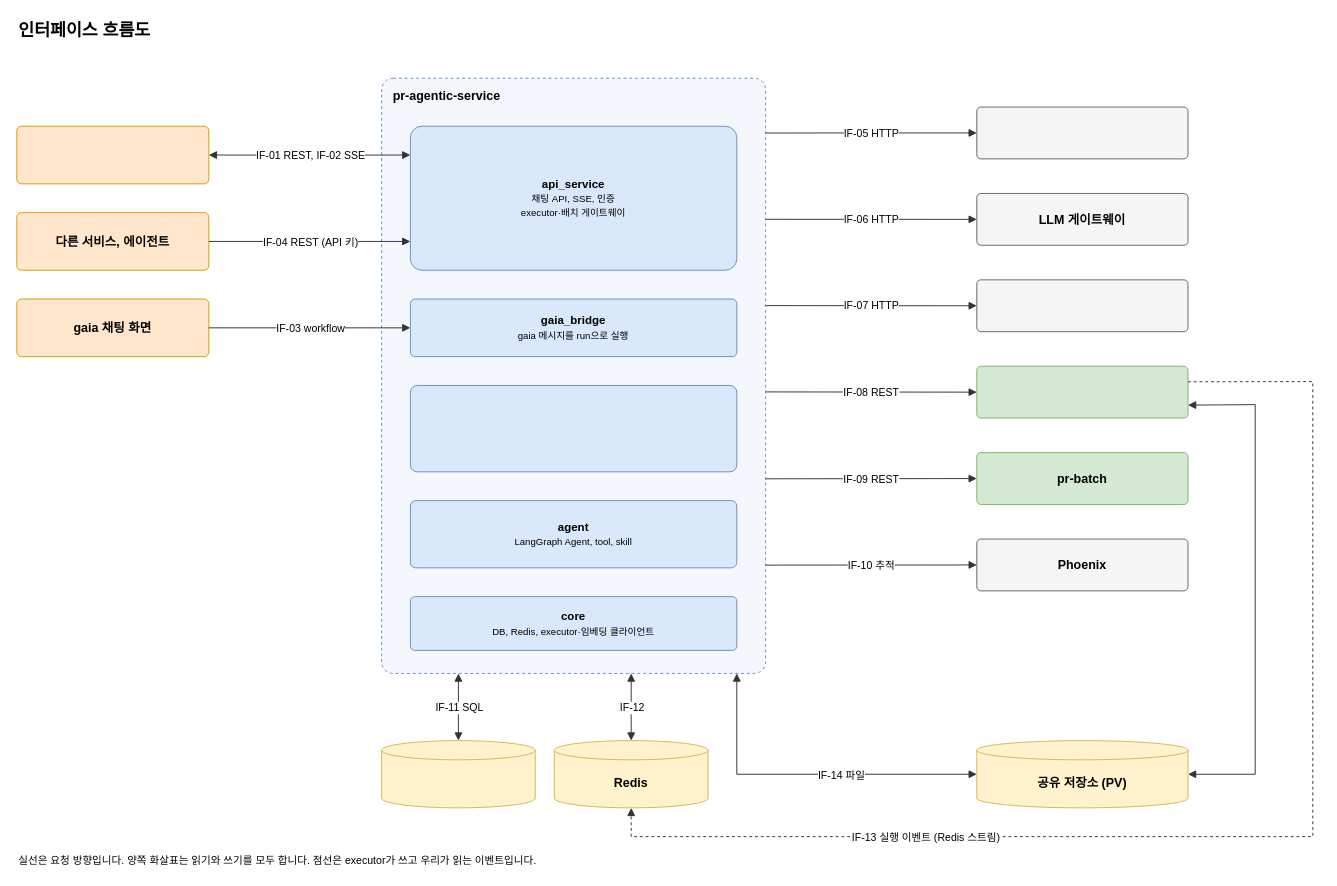
Some shapes in this 1337 by 886 pixel diagram are drawn without their labels. The box of each missing label's shape, as (x1, y1, x2, y2) in pixels:
executor: (976, 365, 1188, 418)
PostgreSQL: (381, 740, 535, 808)
SSO (IdP): (976, 106, 1188, 159)
worker run 스케줄러, executor 이벤트 수신 배치 리포트, 메모리, 정리: (409, 384, 737, 472)
웹 브라우저: (16, 125, 209, 184)
임베딩 게이트웨이: (976, 279, 1188, 332)
